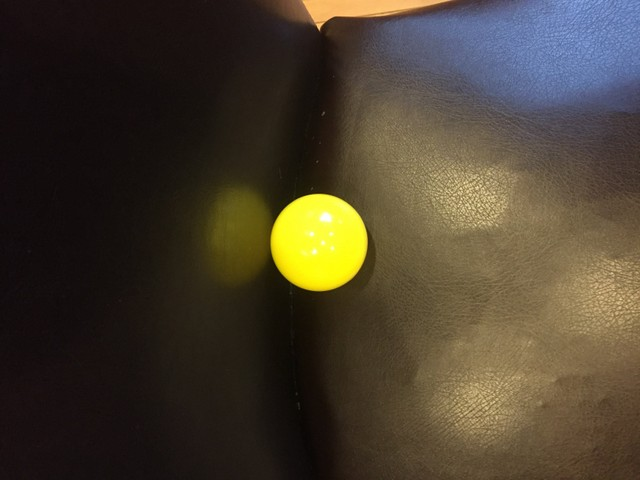ball: (271, 192, 370, 291)
